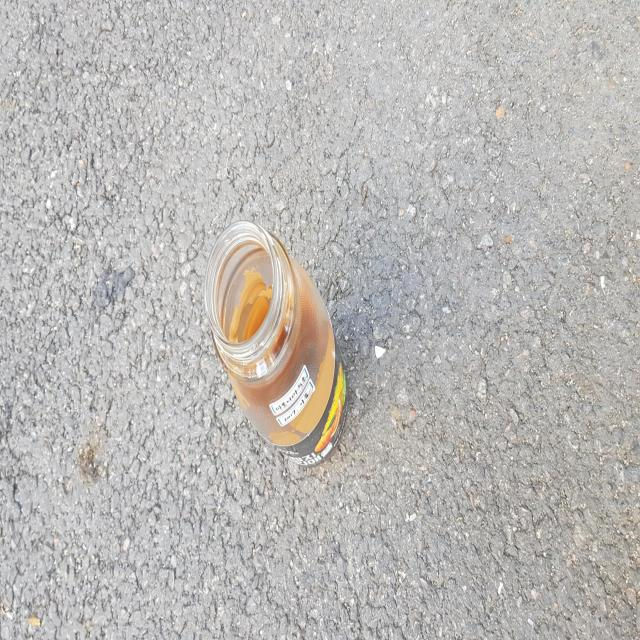glass: (204, 220, 347, 466)
